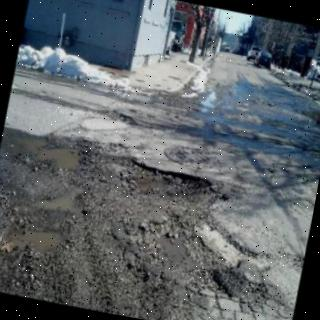pothole: (0, 130, 265, 320)
